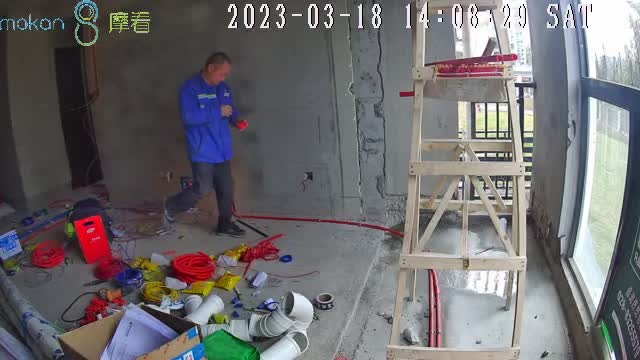people: (162, 51, 249, 238)
window: (566, 1, 640, 360)
